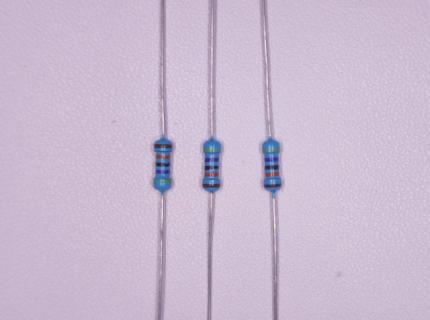Black band: (265, 165, 279, 170), (156, 162, 169, 167), (205, 166, 219, 170)
Brown band: (154, 144, 173, 149), (263, 184, 281, 188), (202, 184, 219, 188)
Orange band: (265, 172, 279, 177), (204, 173, 219, 177), (156, 155, 169, 159)
Violet band: (205, 157, 219, 162), (265, 157, 278, 162), (156, 170, 170, 174)
Yellow band: (261, 147, 280, 152), (154, 179, 171, 183), (203, 148, 220, 152)
